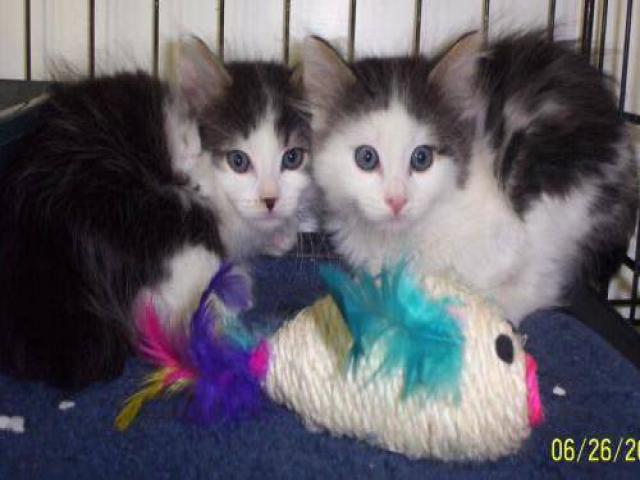cat: (302, 13, 635, 331)
